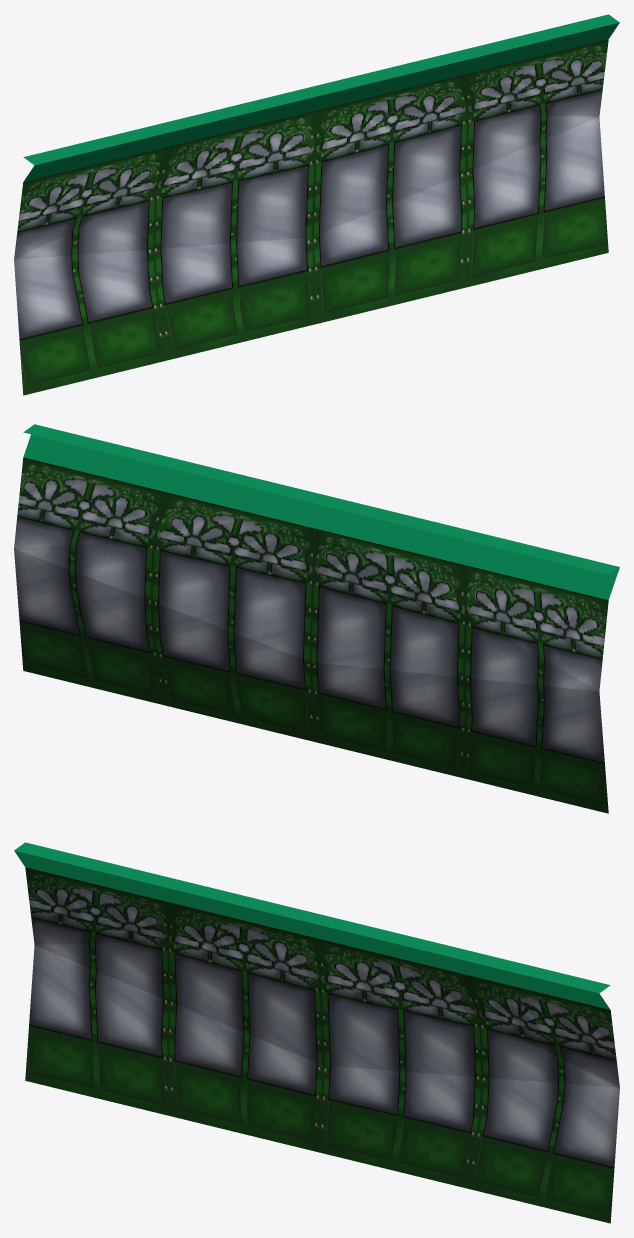
The model's file is W_A3_xxxx [GrünesMetall]_258.glb.
The picture shows the model from 3 angles, top to bottom: view 1: azimuth 30°, elevation 25°; view 2: azimuth 150°, elevation 25°; view 3: azimuth 330°, elevation 25°; orthographic projection.
Visible parts, largest first — view 1: polySurfaceShape787, polySurfaceShape1065; view 2: polySurfaceShape787, polySurfaceShape1065; view 3: polySurfaceShape787, polySurfaceShape1065.
Part boxes in pixels (x1,y1,x2,y2): polySurfaceShape787: (14, 39, 608, 395); polySurfaceShape1065: (23, 14, 619, 181); polySurfaceShape787: (14, 457, 608, 813); polySurfaceShape1065: (23, 424, 619, 599); polySurfaceShape787: (25, 867, 619, 1223); polySurfaceShape1065: (14, 842, 610, 1009).
Bounding box in the file's own units: 1 × 0.3891 × 0.0607.
Materials: 2 (1 with a texture image).
